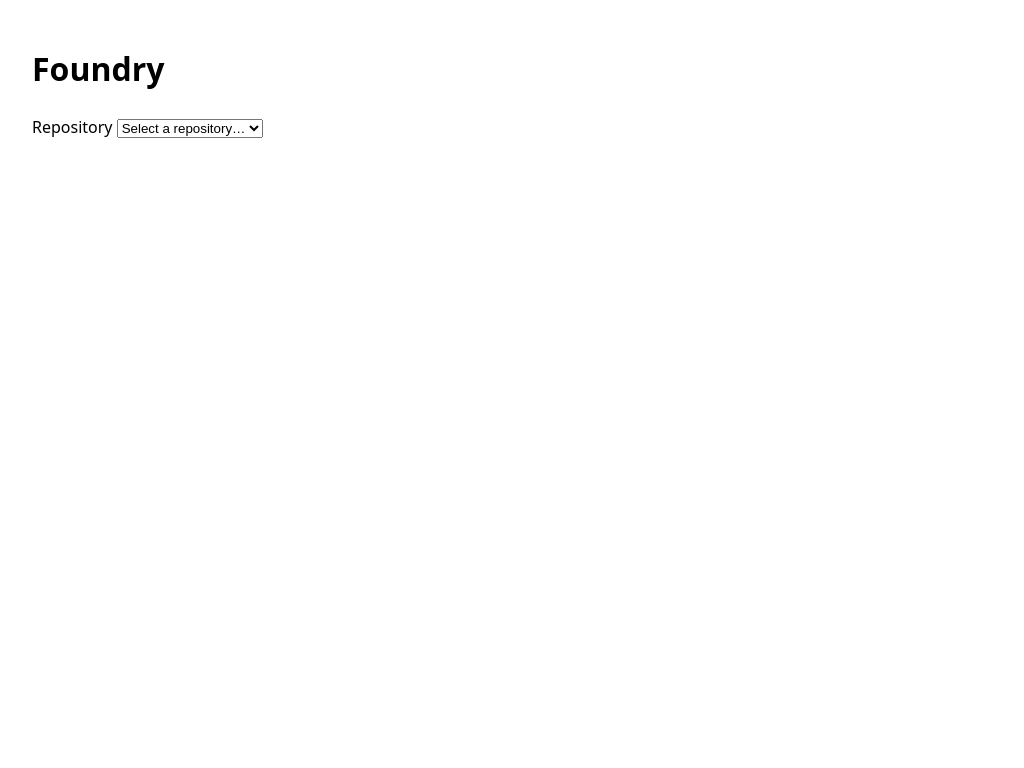
Ask › answers with the indexed generation and the evidence
Select "acme/demo (3 files)" in the dropdown labelled "Repository" at (190, 128), box [117,119,263,138]
(page scrolled)
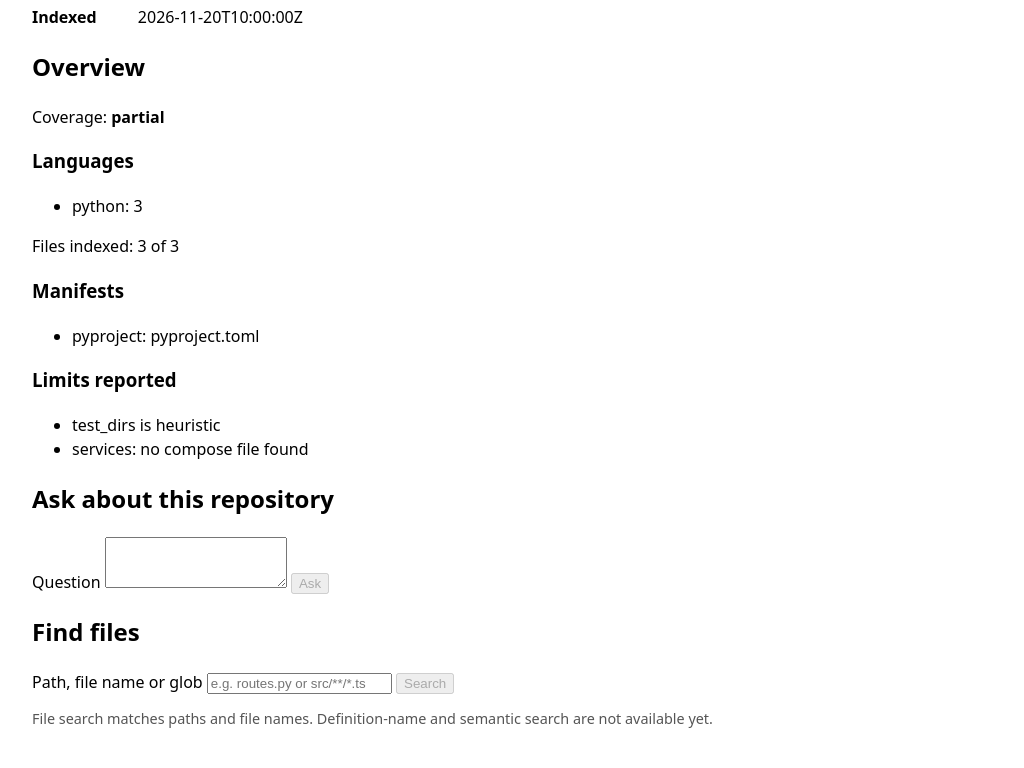
Type "What does it do?" into the text box labelled "Question" at (196, 562), box [105,537,287,588]
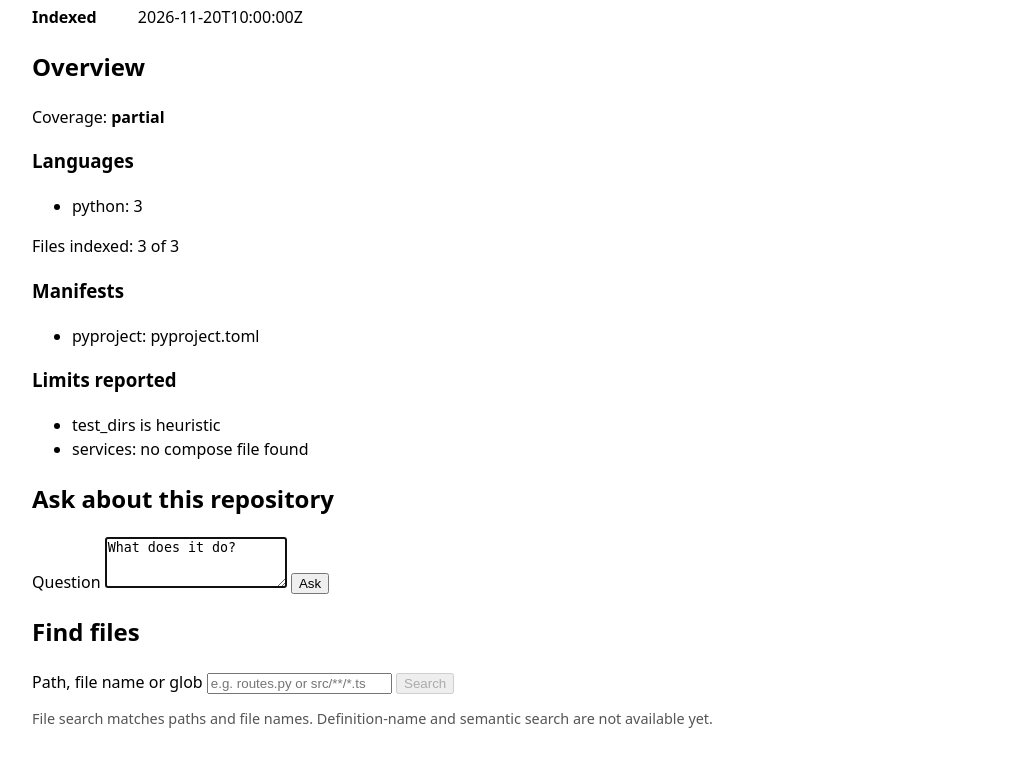
Click the button "Ask" at (310, 584), box [291,573,329,594]
(page scrolled)
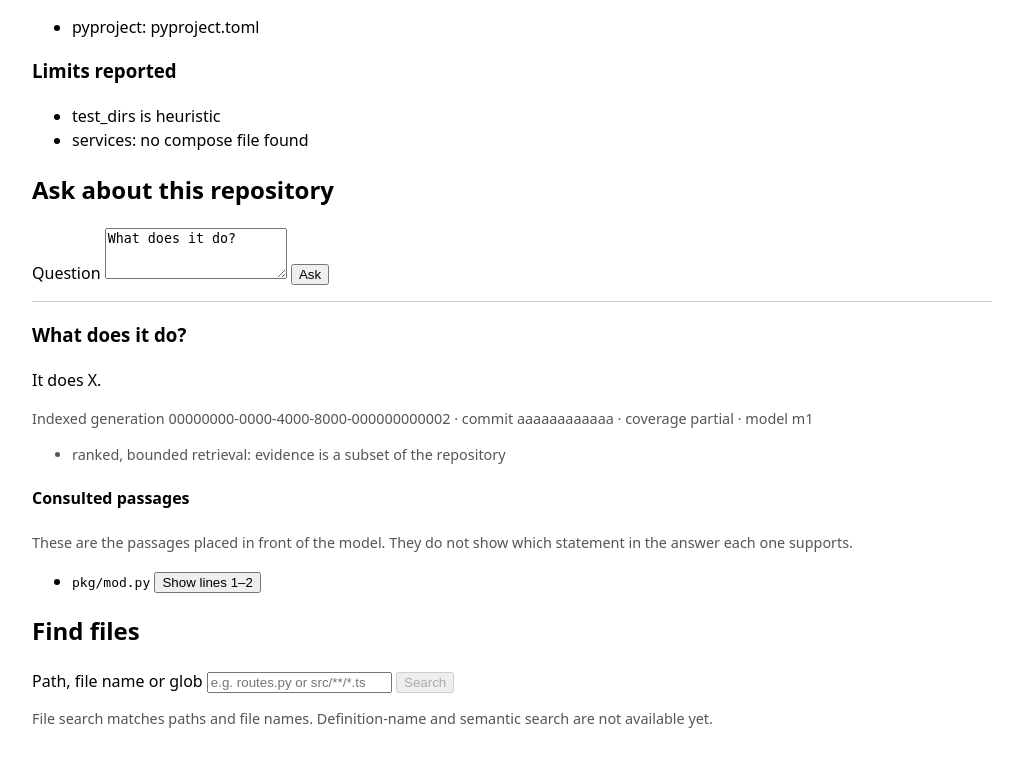
Now the text "It does X." is shown, box [32,369,101,391]
Now the element named "Answer 00000000-0000-4000-8000-0000000000aa" shows "commit aaaaaaaaaaaa", box [450,409,614,428]
